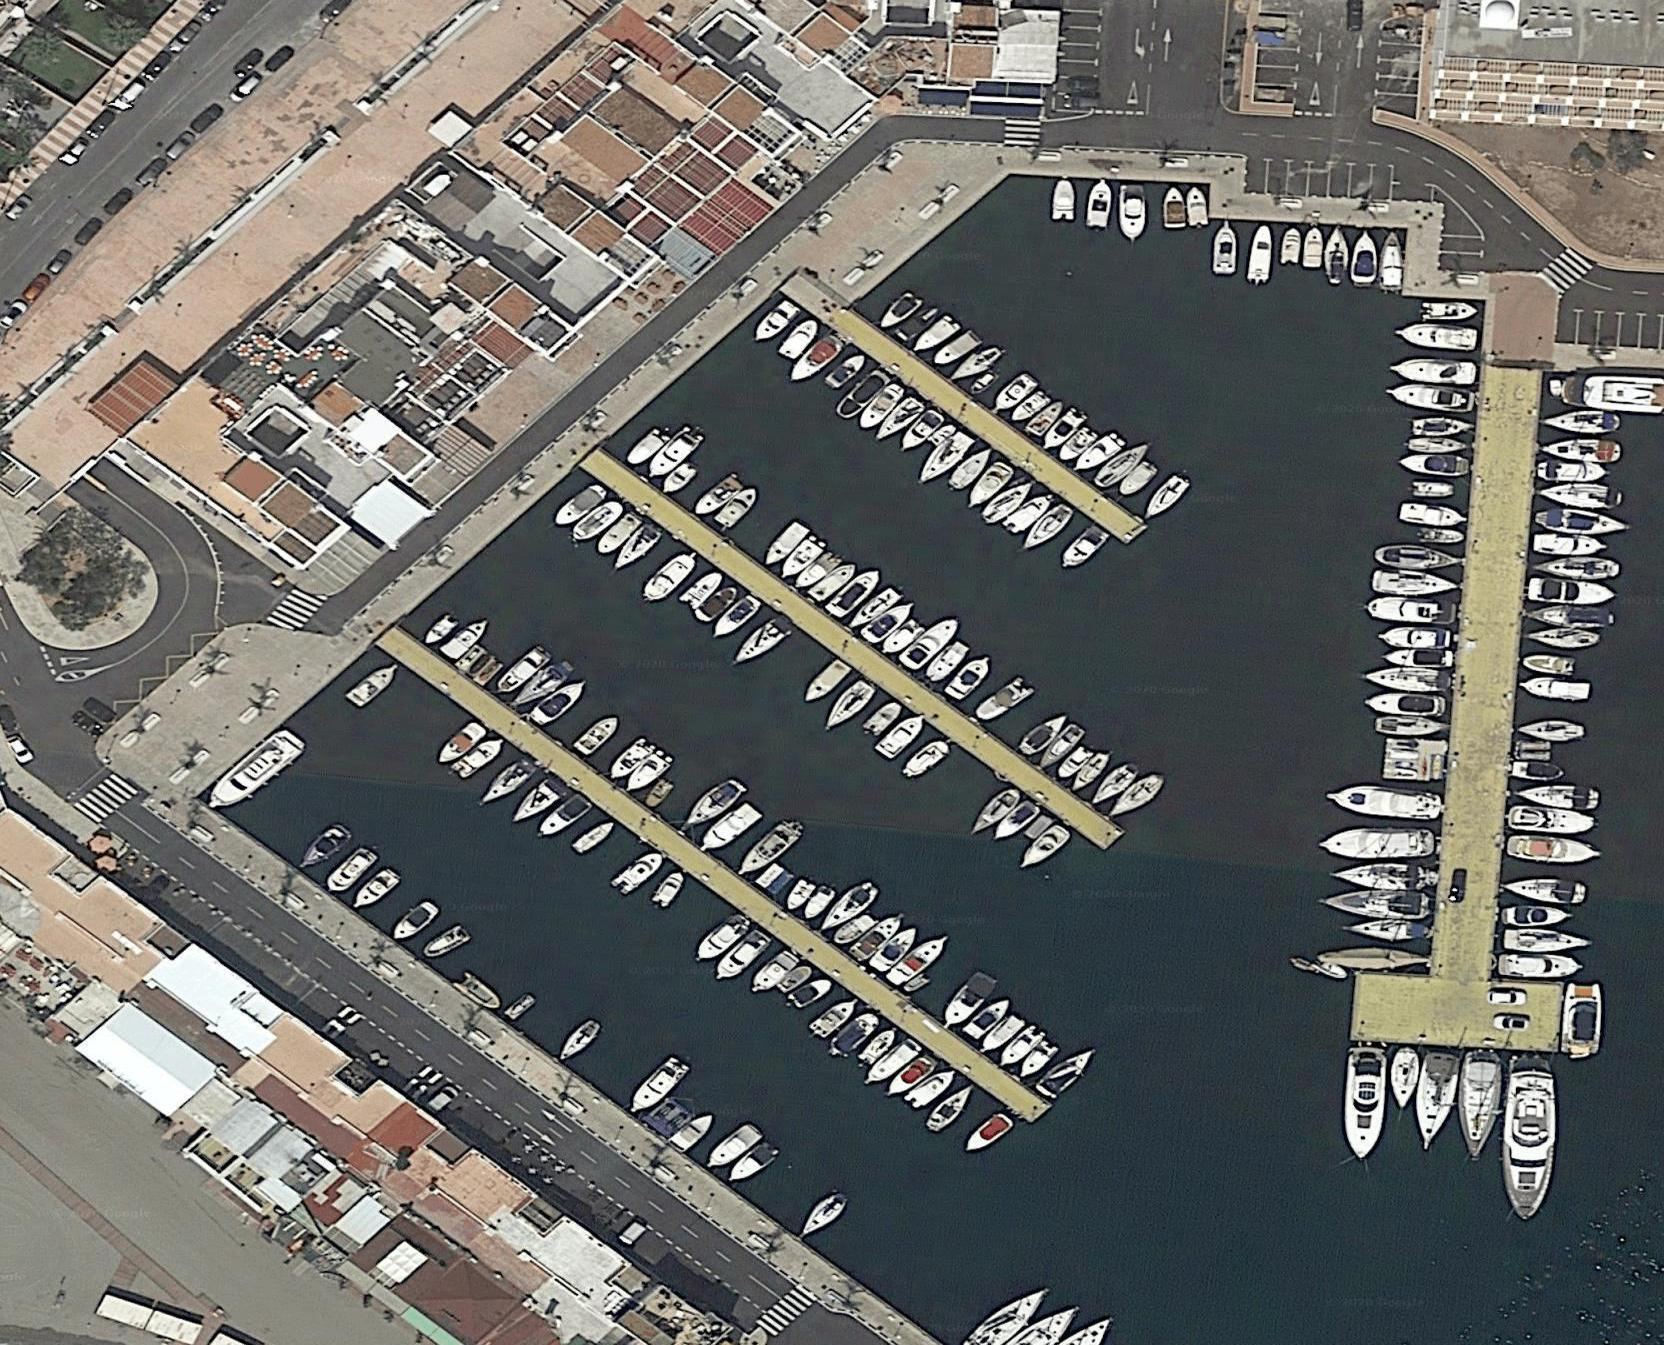harbor: (335, 640, 1104, 1145), (1317, 335, 1664, 1079), (573, 425, 1152, 863), (748, 264, 1204, 561)
ship: (1502, 1062, 1557, 1221), (953, 1285, 1052, 1344), (1316, 825, 1438, 866), (1344, 1044, 1387, 1162), (1327, 781, 1440, 822), (1461, 1055, 1501, 1150), (1414, 1055, 1453, 1147), (1505, 832, 1600, 866), (796, 1189, 851, 1242), (1562, 985, 1601, 1057), (1578, 373, 1657, 408), (960, 1109, 1018, 1156), (1528, 576, 1615, 607), (1532, 526, 1610, 559), (1547, 408, 1621, 441), (1368, 690, 1443, 719), (1399, 502, 1471, 533), (1502, 951, 1580, 979), (1530, 626, 1600, 653), (1503, 904, 1571, 932), (1525, 672, 1589, 701), (1519, 716, 1586, 742), (1381, 629, 1447, 652), (1248, 231, 1274, 285)
